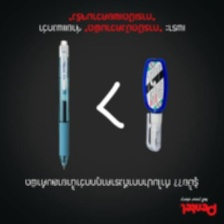correction_fluid: (140, 55, 170, 153)
